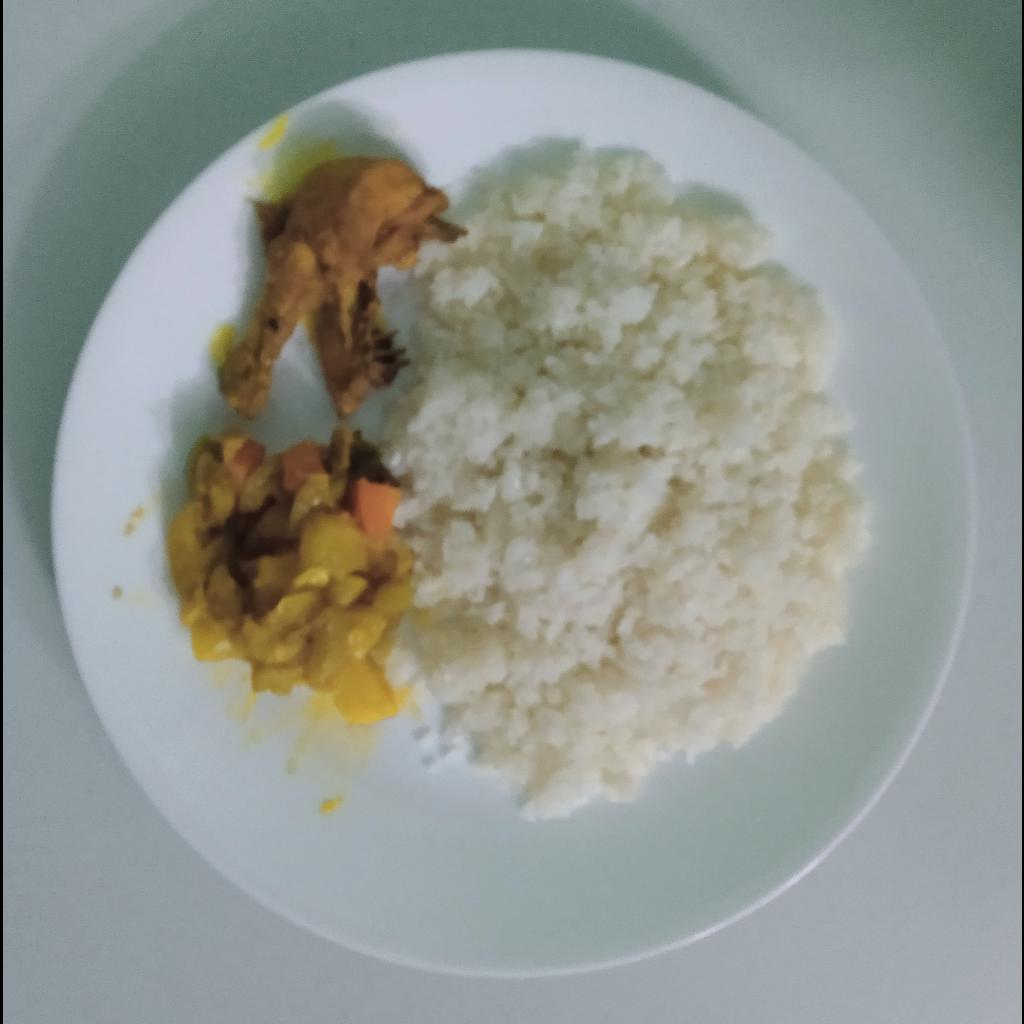chicken: (215, 157, 469, 421)
rice: (378, 151, 874, 822)
vegetable: (168, 429, 417, 727)
